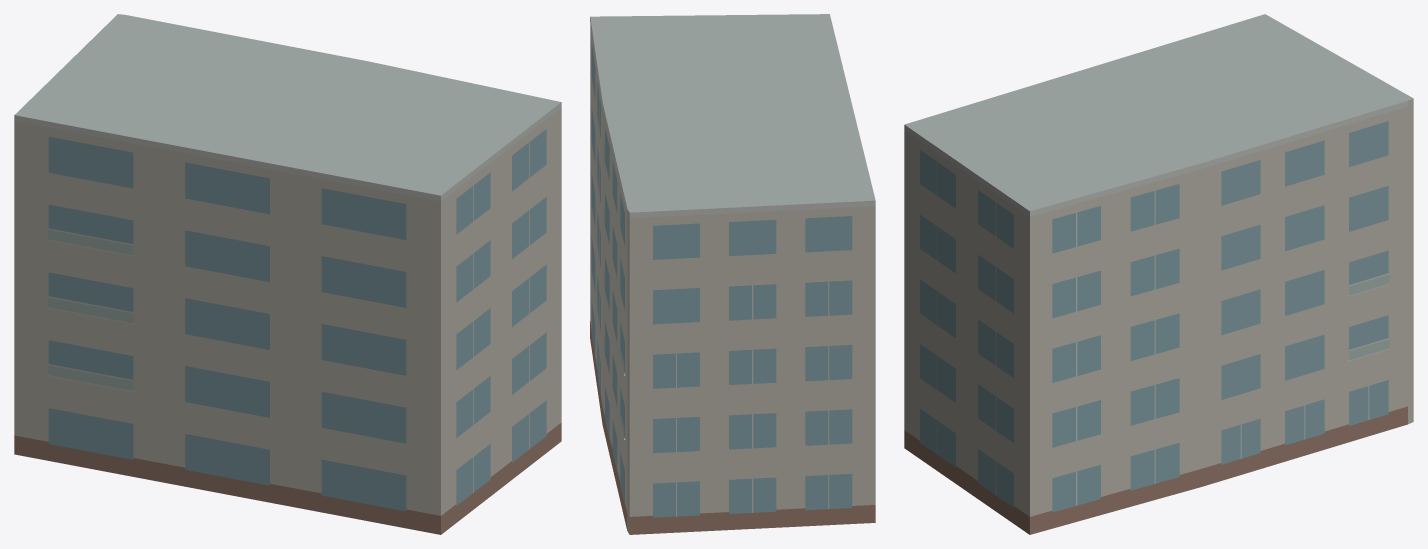
File: survey-upis-32883169.glb
3 views of the same model, side by side, from view 1: azimuth 30°, elevation 25°; view 2: azimuth 150°, elevation 25°; view 3: azimuth 270°, elevation 25° (orthographic). The views are drawn at different scales.
Visible parts, largest first — view 1: survey-upis-32883169.tmp; view 2: survey-upis-32883169.tmp; view 3: survey-upis-32883169.tmp.
Part boxes in pixels (bbox=[...]): survey-upis-32883169.tmp: bbox=[14, 14, 561, 534]; survey-upis-32883169.tmp: bbox=[590, 14, 875, 534]; survey-upis-32883169.tmp: bbox=[904, 14, 1413, 534].
Size of the model in its own units: 18.44 by 14.1 by 20.12.
